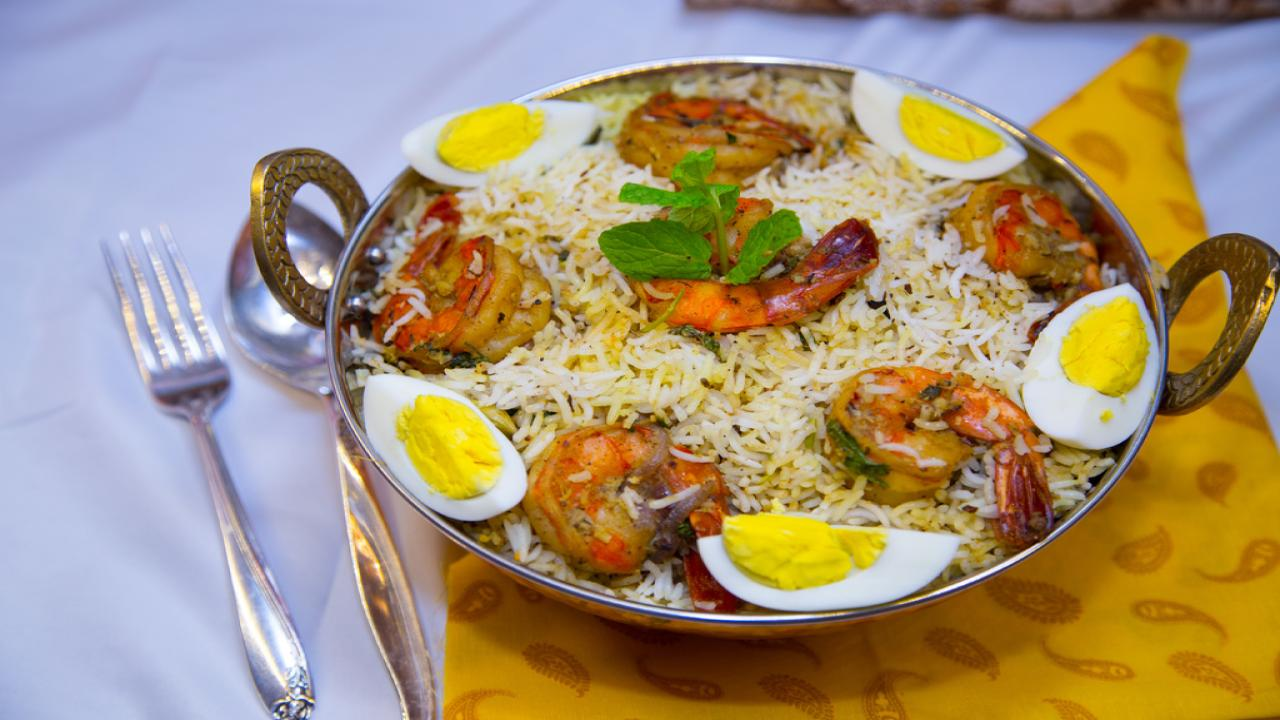fork: (100, 221, 312, 720)
